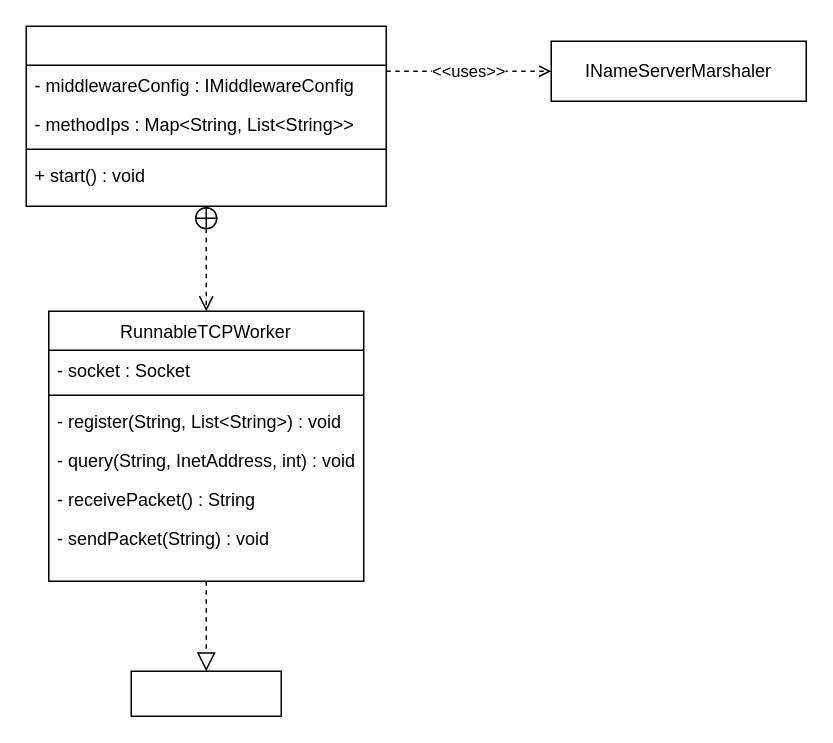
This 833x743 diagram has some shape labels left out. Each missing label, with the box of its shape:
NameServer: (25, 25, 386, 206)
Runnable: (130, 670, 281, 716)
